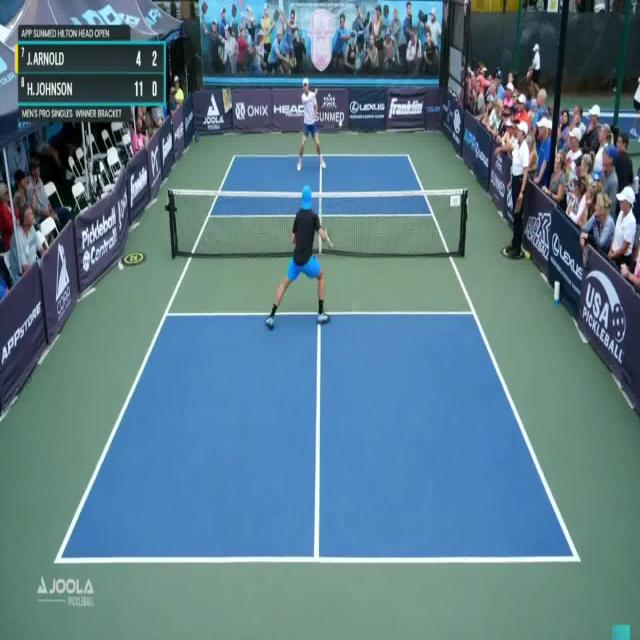ball: (339, 118, 343, 128)
